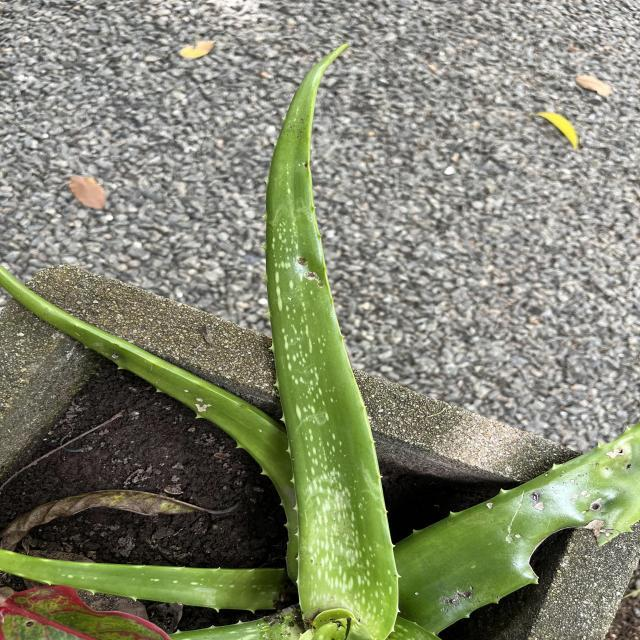Aloe vera: (263, 38, 410, 640)
